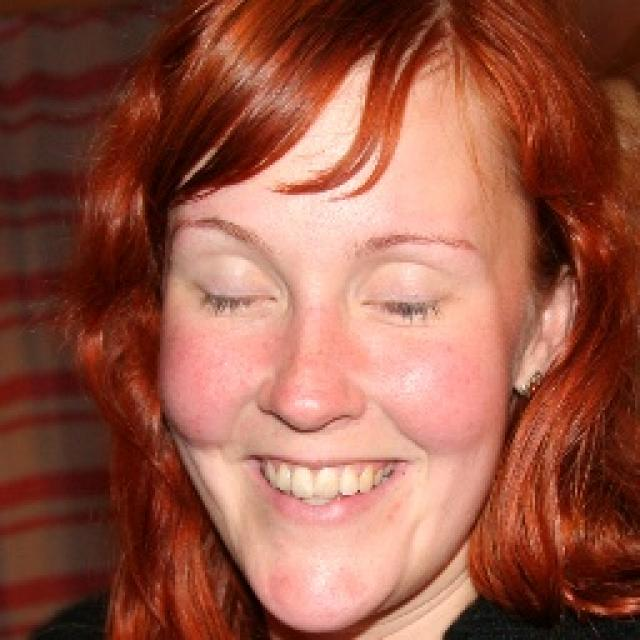earlobe: (516, 261, 579, 400)
